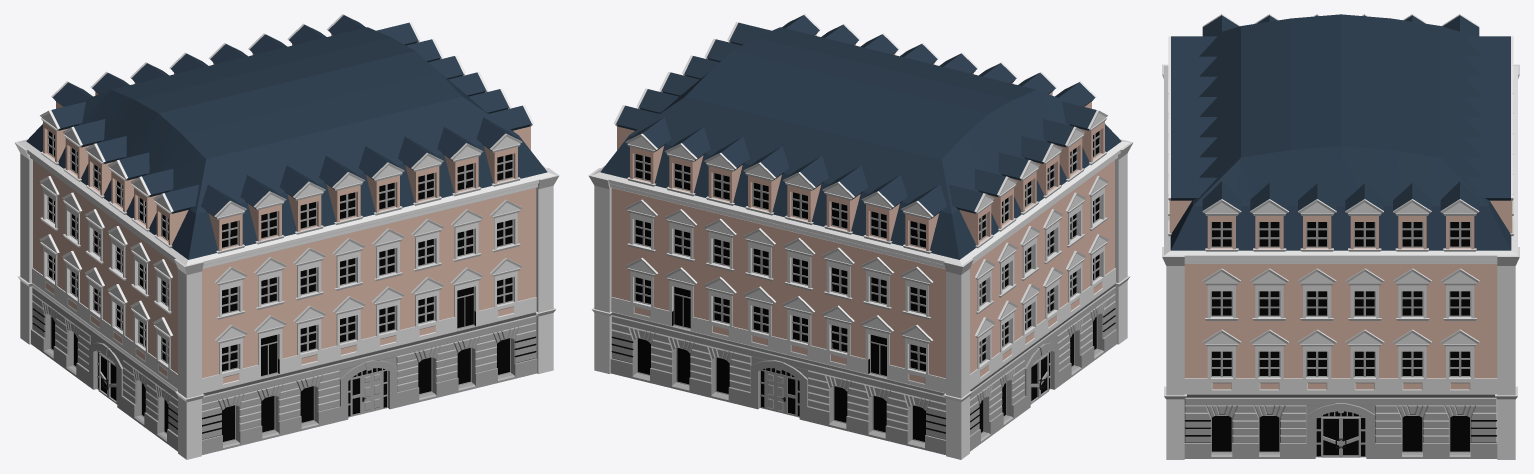
The model's file is Building_05.fbx.
The picture shows the model from 3 angles, left to right: view 1: azimuth 30°, elevation 25°; view 2: azimuth 150°, elevation 25°; view 3: azimuth 270°, elevation 25°; orthographic projection. The views are drawn at different scales.
Visible parts, largest first — view 1: Building_05; view 2: Building_05; view 3: Building_05.
Part boxes in pixels (x1=…): Building_05: x1=14, y1=14, x2=559, y2=459; Building_05: x1=588, y1=14, x2=1133, y2=459; Building_05: x1=1162, y1=14, x2=1519, y2=459.
Bounding box in the file's own units: 21.76 × 15.1 × 17.13.
